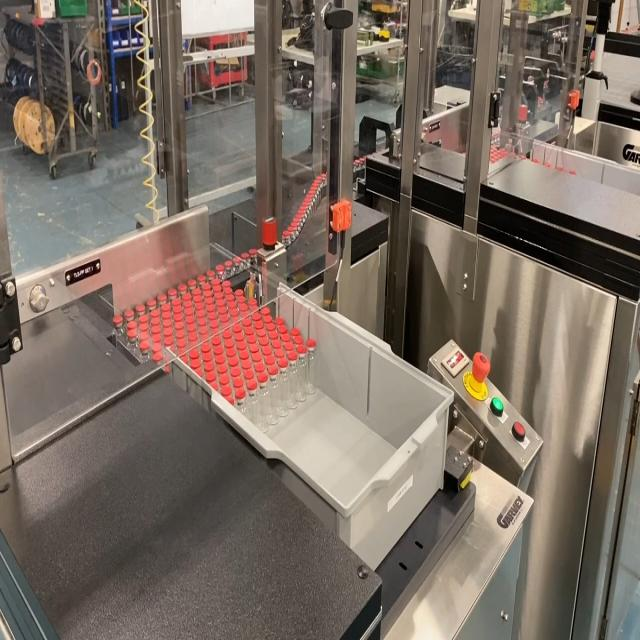vial: (236, 389, 247, 403), (151, 352, 163, 364), (257, 373, 269, 385), (248, 380, 258, 394), (135, 300, 146, 312), (296, 344, 307, 356), (267, 366, 280, 376), (278, 357, 288, 370), (146, 296, 156, 308), (112, 314, 122, 325), (124, 308, 135, 318), (140, 341, 150, 352), (189, 349, 199, 360), (187, 332, 198, 342), (220, 374, 230, 385), (150, 333, 162, 342), (238, 349, 250, 358), (240, 360, 252, 369), (242, 371, 255, 379), (176, 339, 186, 349), (234, 378, 244, 388), (209, 383, 219, 393), (231, 368, 240, 379), (138, 313, 150, 321), (215, 344, 223, 356), (220, 386, 232, 394), (205, 373, 217, 381), (226, 348, 238, 356), (128, 320, 138, 329), (140, 330, 149, 340), (197, 274, 207, 283), (229, 308, 239, 317), (288, 352, 297, 362), (151, 343, 162, 351), (217, 354, 225, 365), (234, 332, 245, 340), (138, 322, 150, 329), (191, 288, 203, 295), (151, 317, 160, 326), (215, 263, 224, 272), (127, 330, 137, 338), (151, 325, 161, 333), (161, 303, 171, 311), (165, 337, 173, 347), (193, 369, 203, 377), (208, 312, 218, 320), (218, 306, 228, 314), (206, 305, 216, 313), (232, 324, 242, 332), (249, 247, 256, 258), (236, 341, 247, 348), (158, 294, 167, 302), (168, 288, 177, 296), (175, 322, 184, 330), (174, 312, 183, 320), (187, 324, 196, 332), (204, 361, 213, 369), (212, 337, 221, 345), (212, 328, 221, 336), (229, 359, 238, 367), (223, 330, 232, 338), (222, 280, 231, 288), (172, 299, 182, 306), (162, 312, 172, 319), (209, 321, 219, 328), (224, 339, 234, 346), (190, 361, 201, 367), (176, 331, 184, 339), (200, 334, 208, 342), (198, 318, 207, 325), (224, 396, 233, 403), (221, 322, 230, 329), (204, 297, 213, 304), (226, 259, 233, 268), (228, 301, 237, 308), (150, 311, 160, 317), (217, 366, 227, 372), (216, 300, 226, 306), (193, 296, 203, 302), (186, 280, 196, 286), (202, 284, 212, 290), (206, 270, 216, 276), (212, 286, 222, 292), (260, 308, 270, 314), (186, 316, 194, 323), (204, 353, 212, 360), (220, 314, 228, 321), (201, 344, 210, 350), (214, 292, 223, 298), (223, 288, 232, 294), (164, 319, 171, 326), (165, 328, 172, 335), (185, 308, 193, 314), (184, 301, 192, 307), (190, 343, 198, 349), (204, 290, 212, 296), (173, 307, 182, 312), (198, 310, 205, 316), (233, 257, 240, 263), (242, 251, 248, 258), (180, 357, 188, 362), (180, 349, 186, 355), (226, 296, 235, 300), (183, 294, 190, 299), (196, 304, 203, 309), (212, 279, 218, 284), (200, 328, 207, 332), (180, 286, 186, 290)
